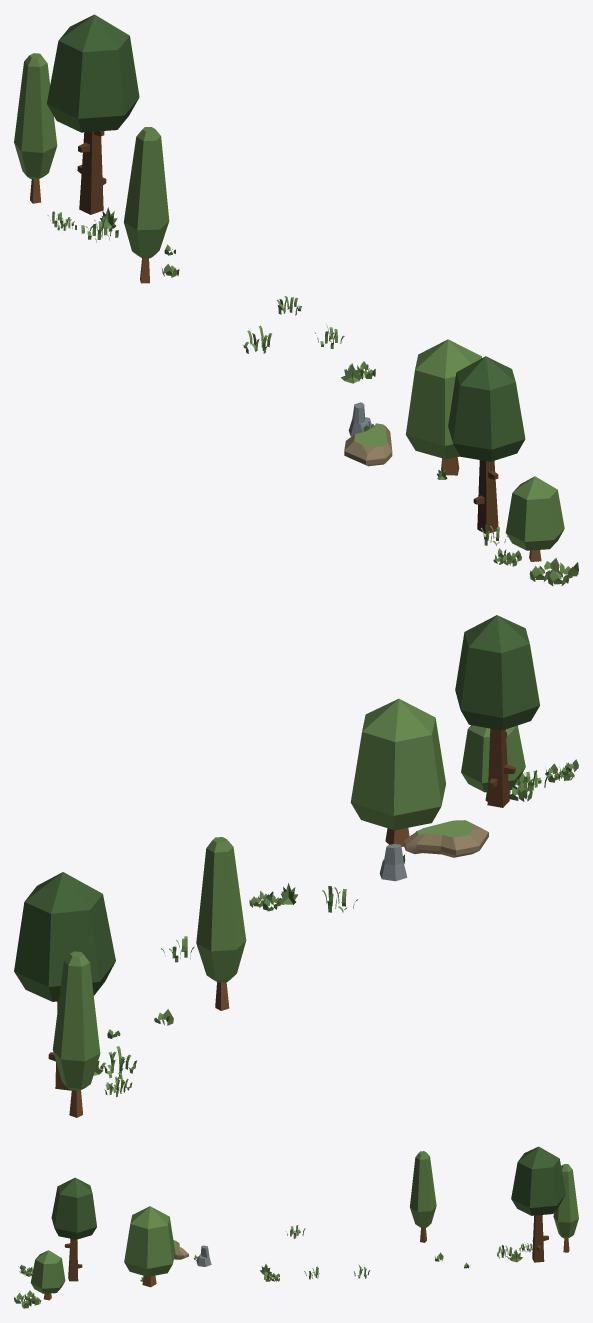
The model's file is cell_x-4_z1_render.gltf.
3 views of the same model, one above another, from view 1: azimuth 30°, elevation 25°; view 2: azimuth 150°, elevation 25°; view 3: azimuth 270°, elevation 25° (orthographic). The views are drawn at different scales.
Parts seen in each view (by area): view 1: cell_x-4_z1; view 2: cell_x-4_z1; view 3: cell_x-4_z1.
Part boxes in pixels (<box>): cell_x-4_z1: <box>14,14,578,585</box>; cell_x-4_z1: <box>14,615,578,1117</box>; cell_x-4_z1: <box>14,1146,578,1308</box>.
Size of the model in its own units: 6.31 by 11.63 by 40.05.
